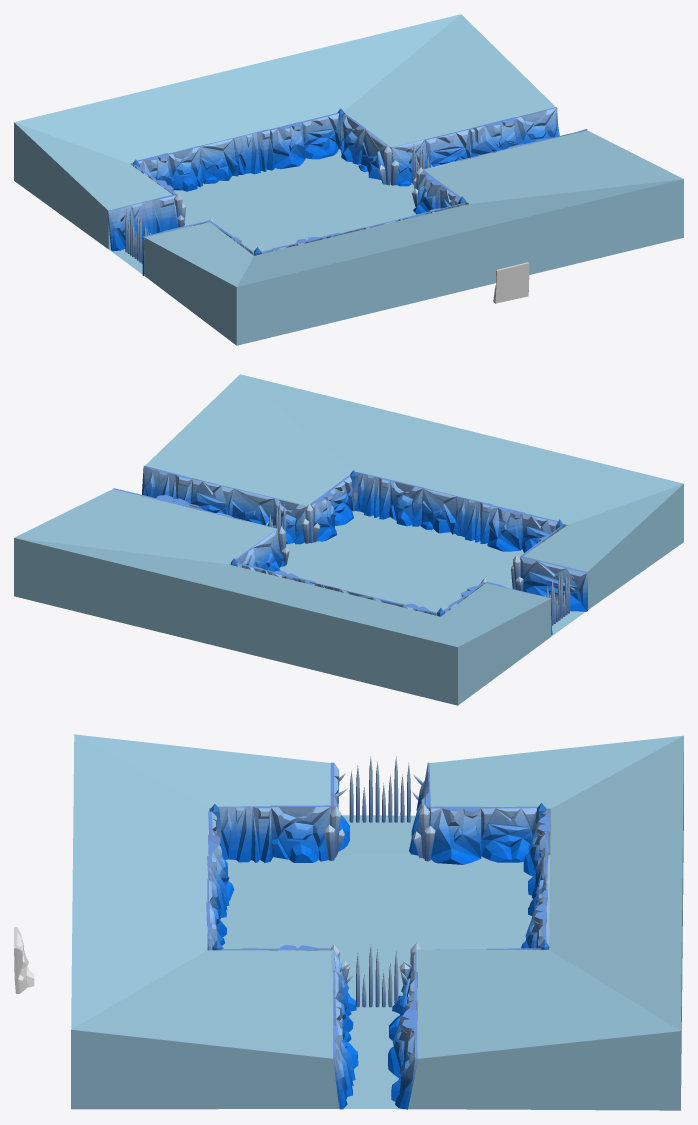
Rendered from Arena.fbx.
3 renders of one model, top to bottom at view 1: azimuth 30°, elevation 25°; view 2: azimuth 150°, elevation 25°; view 3: azimuth 270°, elevation 25°, orthographic. The views are drawn at different scales.
Parts seen in each view (by area): view 1: ground, wall_02.002, wall_02.004, wall_04.004, wall_01.004, wall_03.004, wall_05.004, wall_04.007, wall_05.006, wall_05, Cylinder.004, wall_03.006 (+5 smaller); view 2: ground, wall_04.003, wall_03.001, wall_01.001, wall_02.001, wall_02.005, wall_05.001, wall_02.003, wall_01.002, wall_04.006, Cylinder.004, wall_05.005 (+4 smaller); view 3: ground, Cylinder.004, wall_05.002, wall_03.002, wall_02.006, wall_04.002, wall_02.003, wall_05.006, wall_03.006, wall_05, wall_03.005, wall_02.001 (+4 smaller).
Boxes of the visible parts, box(x1,y1,x2,y2) form: ground: box(14, 14, 683, 345); wall_02.002: box(107, 194, 178, 251); wall_02.004: box(233, 129, 274, 174); wall_04.004: box(301, 112, 339, 159); wall_01.004: box(199, 138, 238, 183); wall_03.004: box(269, 121, 305, 169); wall_05.004: box(168, 146, 202, 191); wall_04.007: box(425, 129, 471, 167); wall_05.006: box(515, 107, 559, 144); wall_05: box(493, 262, 529, 303); Cylinder.004: box(120, 144, 432, 264); wall_03.006: box(473, 117, 517, 151); ground: box(14, 374, 683, 705); wall_04.003: box(520, 556, 587, 611); wall_03.001: box(487, 505, 524, 551); wall_01.001: box(420, 488, 457, 534); wall_02.001: box(455, 496, 492, 543); wall_02.005: box(355, 472, 390, 519); wall_05.001: box(389, 480, 423, 526); wall_02.003: box(142, 465, 192, 503); wall_01.002: box(232, 488, 275, 526); wall_04.006: box(190, 478, 233, 516); Cylinder.004: box(265, 502, 575, 625); wall_05.005: box(273, 498, 307, 544); ground: box(71, 734, 683, 1110); Cylinder.004: box(338, 756, 422, 1007); wall_05.002: box(271, 805, 330, 862); wall_03.002: box(429, 806, 481, 864); wall_02.006: box(218, 806, 272, 862); wall_04.002: box(481, 806, 537, 862); wall_02.003: box(333, 1025, 355, 1109); wall_05.006: box(391, 1031, 418, 1109); wall_03.006: box(388, 1001, 414, 1074); wall_05: box(14, 927, 34, 993); wall_03.005: box(523, 810, 549, 876); wall_02.001: box(207, 856, 229, 919).
Size of the model in its own units: 12191 by 1561 by 11634.
Materials: 30 (29 with a texture image).
